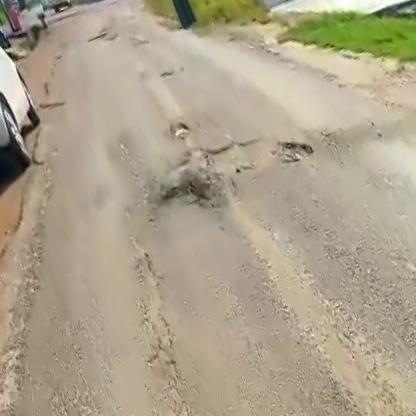pothole: (192, 107, 323, 199), (155, 167, 215, 221), (167, 114, 194, 144)
